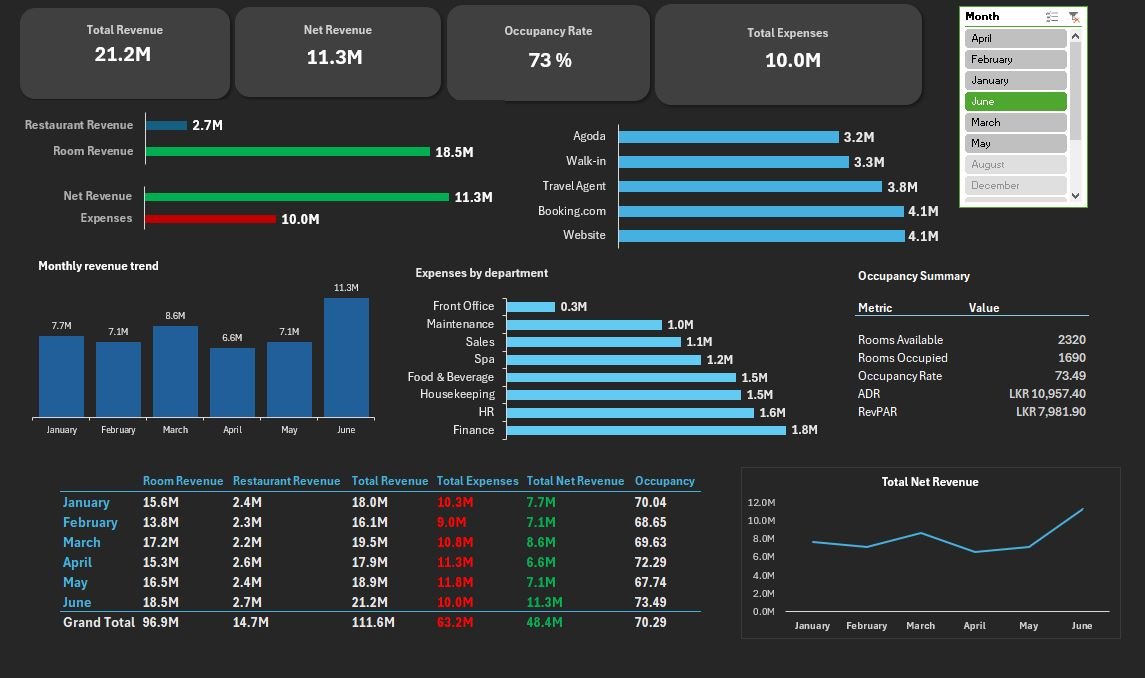

Layout of this report page (visuals, bound fields, positions):
{"tool":"powerbi","page":{"name":"Hotel Executive Dashboard","canvas":[1280,720],"ordinal":0},"visuals":[{"type":"cardVisual","fields":{"Data":["Measure.Total Revenue"]},"box":[1050,99.8,222.1,81.2],"z":0},{"type":"cardVisual","fields":{"Data":["Measure.Occupancy %"]},"box":[14.7,98.8,198.7,83.2],"z":1000},{"type":"cardVisual","fields":{"Data":["Measure.ADR"]},"box":[222.1,98.8,200.6,83.2],"z":2000},{"type":"cardVisual","fields":{"Data":["Measure.RevPAR"]},"box":[422.8,99.8,191.8,82.2],"z":3000},{"type":"cardVisual","fields":{"Data":["Measure.TRevPAR"]},"box":[626.3,99.8,197.7,82.2],"z":4000},{"type":"cardVisual","fields":{"Data":["Measure.GOPPAR"]},"box":[827.9,100.8,204.5,80.2],"z":5000},{"type":"lineChart","title":"Revenue Trend","fields":{"Y":["Measure.Total Revenue"],"Category":["DateTable.Month"]},"box":[14.7,189.8,593,157.6],"z":6000},{"type":"lineChart","title":"Occupancy Trend","fields":{"Category":["DateTable.Month"],"Y":["Measure.Occupancy %"]},"box":[626.7,182.2,635.6,166.2],"z":7000},{"type":"clusteredColumnChart","title":"Revenue by Month","fields":{"Category":["DateTable.Month"],"Y":["Measure.Total Revenue","Measure.Total Expenses"]},"box":[14.2,360.9,593.8,178.7],"z":8000},{"type":"barChart","fields":{"Category":["Reservations.BookingSource"],"Y":["Measure.Total Room Revenue"]},"box":[626.7,360,636.4,176.9],"z":9000},{"type":"barChart","title":"Revenue by Room Type","fields":{"Category":["Rooms.RoomType"],"Y":["Measure.Total Room Revenue"]},"box":[14.7,549,593,163.4],"z":10000},{"type":"clusteredColumnChart","title":"Revenue Composition","fields":{"Y":["Measure.Total Room Revenue","Measure.Total Restaurant Revenue"]},"box":[626.3,549,636.1,163.4],"z":11000},{"type":"textbox","box":[47,5.3,365.3,46.1],"z":12000},{"type":"slicer","fields":{"Values":["DateTable.Year","DateTable.Month"]},"box":[463.9,6.9,247.6,67.5],"z":13000},{"type":"slicer","fields":{"Values":["Reservations.BookingSource"]},"box":[717.3,6.9,301.4,67.5],"z":14000},{"type":"cardVisual","fields":{"Data":["Measure.Revenue Growth %"]},"box":[1032.4,0,230.9,86.1],"z":15000},{"type":"textbox","box":[20.4,62.1,330.7,36.4],"z":16000},{"type":"actionButton","box":[0,8.9,39.9,38.1],"z":17000}]}

Visuals, with their boxes on the page's 1280x720 design canvas (x1, y1, x2, y2). These are canvas units, not pixel positions in the 1145x678 screenshot, which may show the page scaled, cropped or inside an application window:
cardVisual - Measure.Total Revenue: [x1=1050, y1=100, x2=1272, y2=181]
cardVisual - Measure.Occupancy %: [x1=15, y1=99, x2=213, y2=182]
cardVisual - Measure.ADR: [x1=222, y1=99, x2=423, y2=182]
cardVisual - Measure.RevPAR: [x1=423, y1=100, x2=615, y2=182]
cardVisual - Measure.TRevPAR: [x1=626, y1=100, x2=824, y2=182]
cardVisual - Measure.GOPPAR: [x1=828, y1=101, x2=1032, y2=181]
"Revenue Trend" lineChart: [x1=15, y1=190, x2=608, y2=347]
"Occupancy Trend" lineChart: [x1=627, y1=182, x2=1262, y2=348]
"Revenue by Month" clusteredColumnChart: [x1=14, y1=361, x2=608, y2=540]
barChart - Reservations.BookingSource x Measure.Total Room Revenue: [x1=627, y1=360, x2=1263, y2=537]
"Revenue by Room Type" barChart: [x1=15, y1=549, x2=608, y2=712]
"Revenue Composition" clusteredColumnChart: [x1=626, y1=549, x2=1262, y2=712]
textbox: [x1=47, y1=5, x2=412, y2=51]
slicer - DateTable.Year x DateTable.Month: [x1=464, y1=7, x2=712, y2=74]
slicer - Reservations.BookingSource: [x1=717, y1=7, x2=1019, y2=74]
cardVisual - Measure.Revenue Growth %: [x1=1032, y1=0, x2=1263, y2=86]
textbox: [x1=20, y1=62, x2=351, y2=98]
actionButton: [x1=0, y1=9, x2=40, y2=47]
